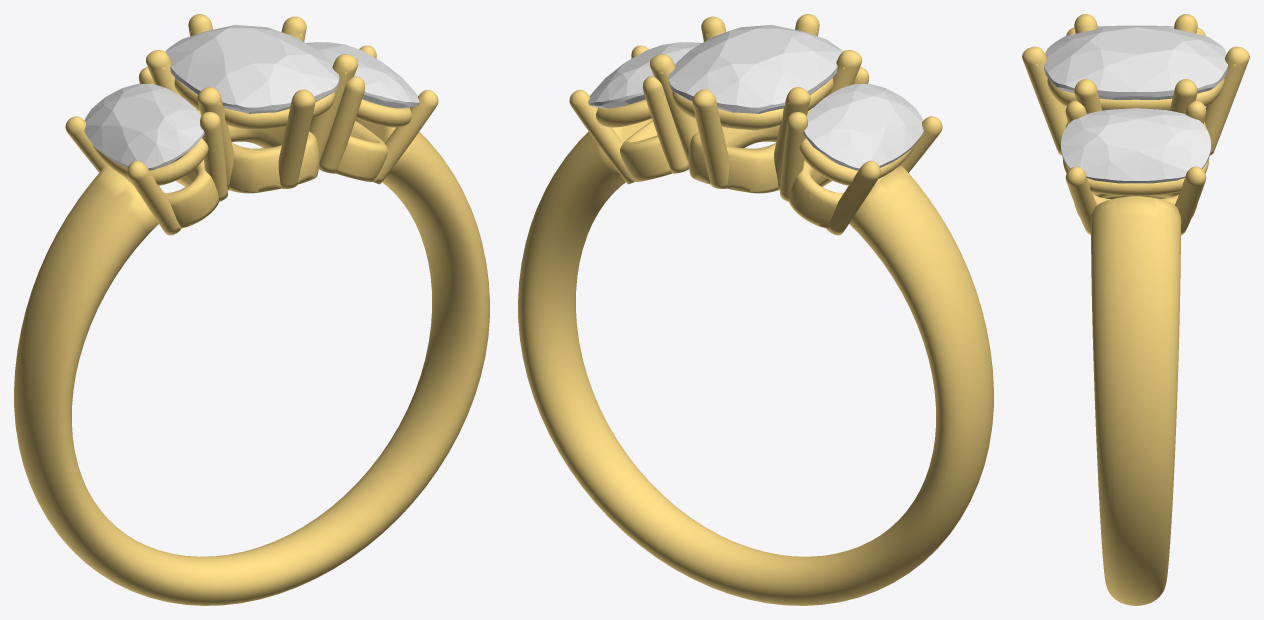
The model's file is diamond-cushion-yellowgold-6prong-taperedband-3stone.glb.
3 views of the same model, side by side, from view 1: azimuth 30°, elevation 25°; view 2: azimuth 150°, elevation 25°; view 3: azimuth 270°, elevation 25° (orthographic).
Visible parts, largest first — view 1: metal.001, stone.002, side.004, side.005; view 2: metal.001, stone.002, side.004, side.005; view 3: metal.001, stone.002, side.005.
Boxes of the visible parts, <box> form: metal.001: <box>14,14,489,605</box>; stone.002: <box>165,25,339,130</box>; side.004: <box>84,83,204,170</box>; side.005: <box>306,42,419,108</box>; metal.001: <box>518,14,993,605</box>; stone.002: <box>668,25,842,130</box>; side.004: <box>803,83,923,170</box>; side.005: <box>588,42,701,108</box>; metal.001: <box>1022,14,1249,605</box>; stone.002: <box>1044,27,1227,99</box>; side.005: <box>1061,108,1210,183</box>.
Size of the model in its own units: 20.09 by 23.03 by 8.8.
